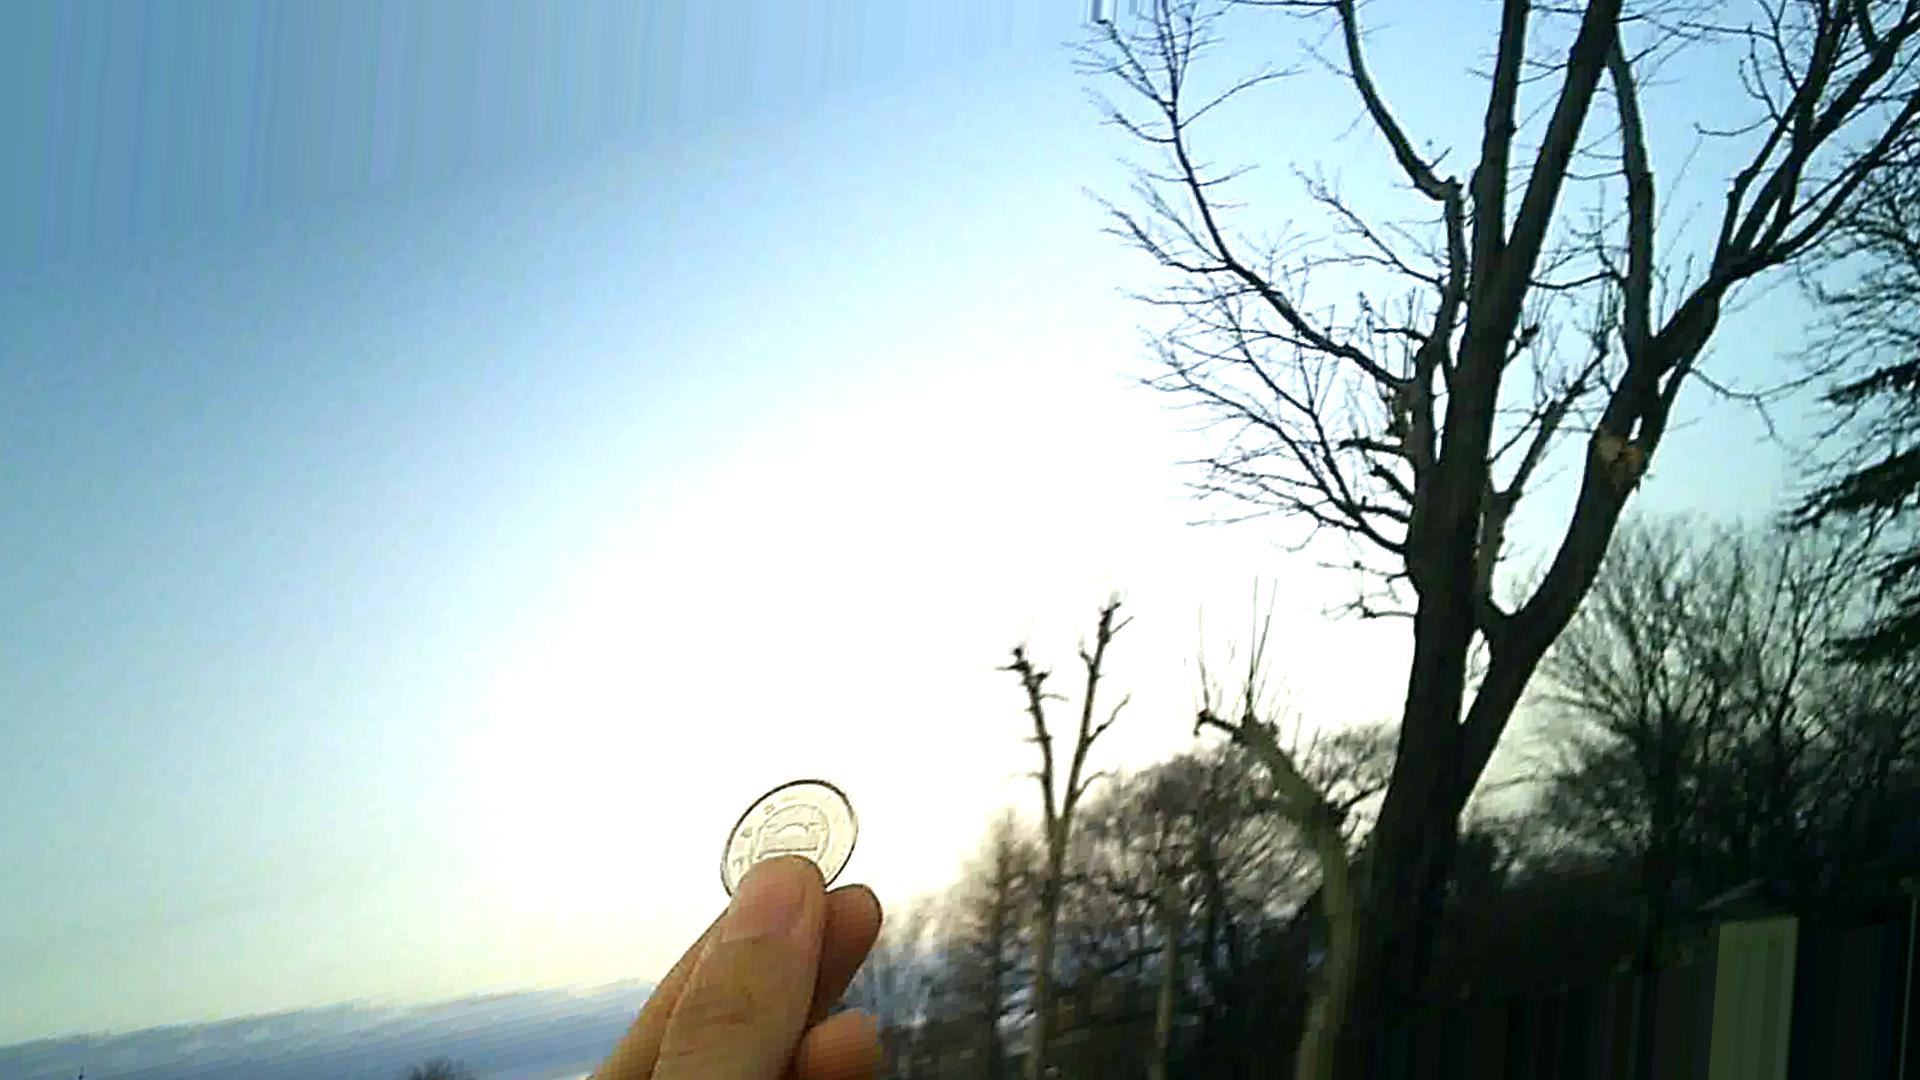1 Yen: (719, 770, 862, 895)
